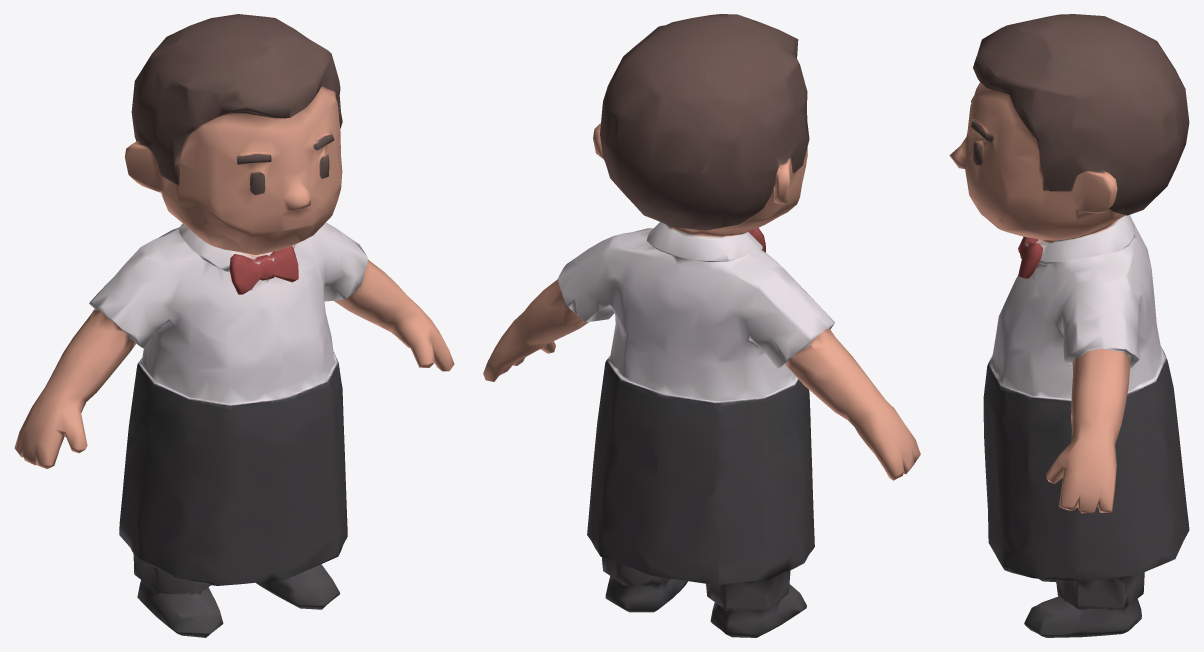
Rendered from waiter_front.glb.
3 renders of one model, left to right at view 1: azimuth 30°, elevation 25°; view 2: azimuth 150°, elevation 25°; view 3: azimuth 270°, elevation 25°, orthographic.
Parts seen in each view (by area): view 1: tripo_node_fe0355ea-6a8b-4e0e-b13c-775dd38047bc; view 2: tripo_node_fe0355ea-6a8b-4e0e-b13c-775dd38047bc; view 3: tripo_node_fe0355ea-6a8b-4e0e-b13c-775dd38047bc.
Part boxes in pixels (x1,y1,x2,y2): tripo_node_fe0355ea-6a8b-4e0e-b13c-775dd38047bc: [14, 14, 454, 637]; tripo_node_fe0355ea-6a8b-4e0e-b13c-775dd38047bc: [483, 14, 920, 637]; tripo_node_fe0355ea-6a8b-4e0e-b13c-775dd38047bc: [949, 14, 1189, 637].
Size of the model in its own units: 0.756 by 1 by 0.3774.
Materials: 1 (1 with a texture image).
